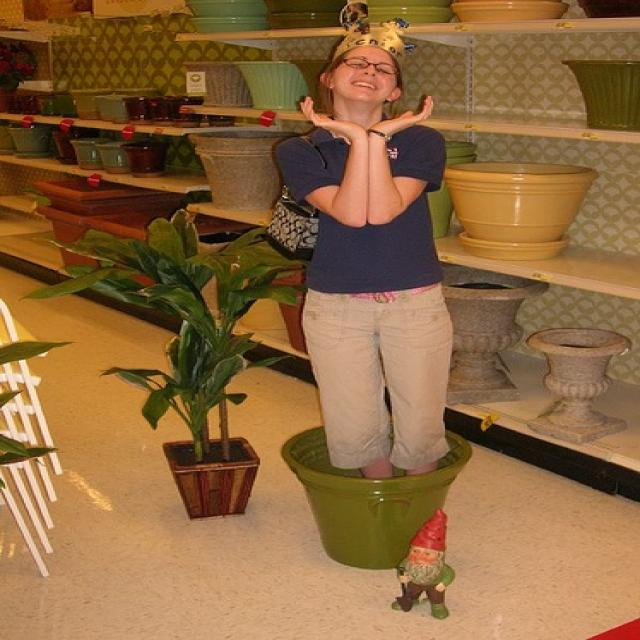pottedplant: (16, 201, 312, 526)
